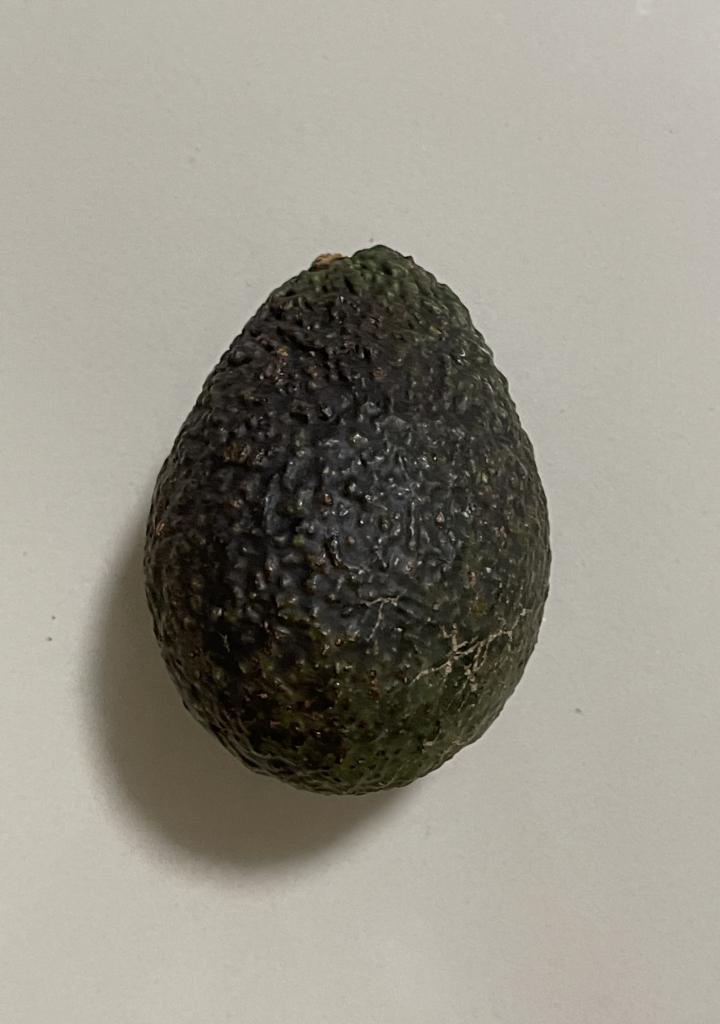Level1: (126, 224, 574, 833)
